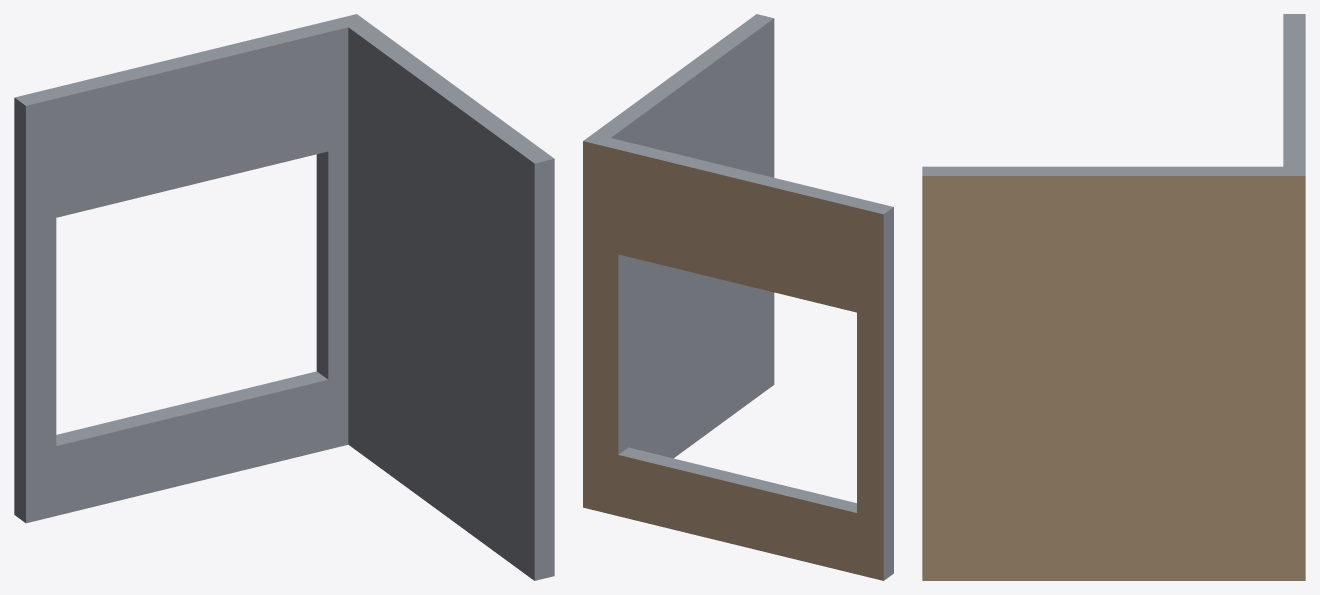
File: Wall2_C6_13.fbx
3 renders of one model, left to right at view 1: azimuth 30°, elevation 25°; view 2: azimuth 150°, elevation 25°; view 3: azimuth 270°, elevation 25°, orthographic. The views are drawn at different scales.
Parts seen in each view (by area): view 1: Wall2_C6_13; view 2: Wall2_C6_13; view 3: Wall2_C6_13.
Part boxes in pixels (left/top/right/bottom): Wall2_C6_13: left=14, top=14, right=554, bottom=580; Wall2_C6_13: left=583, top=14, right=893, bottom=580; Wall2_C6_13: left=922, top=14, right=1305, bottom=580.
Size of the model in its own units: 258 by 300 by 258.
